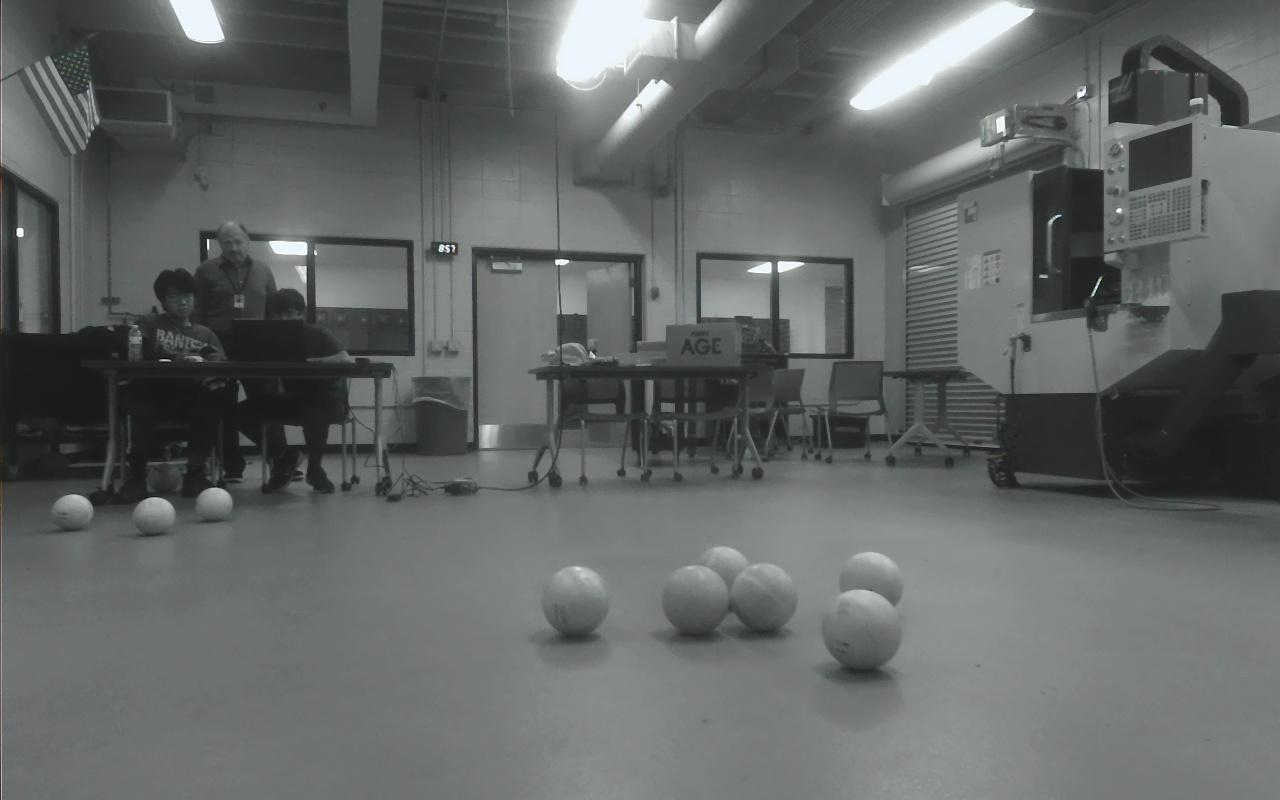Fuel: (822, 589, 901, 671), (541, 565, 609, 637), (662, 565, 730, 635), (731, 563, 797, 632), (838, 551, 904, 611), (695, 546, 750, 609), (132, 497, 177, 535), (51, 494, 95, 530), (195, 486, 234, 522)
